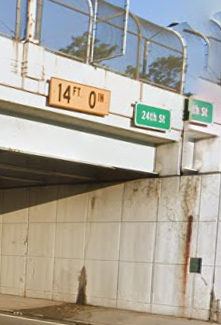0: (86, 88, 98, 111)
1: (54, 78, 62, 106)
4: (62, 79, 71, 108)
overheadsign: (47, 75, 111, 117)
